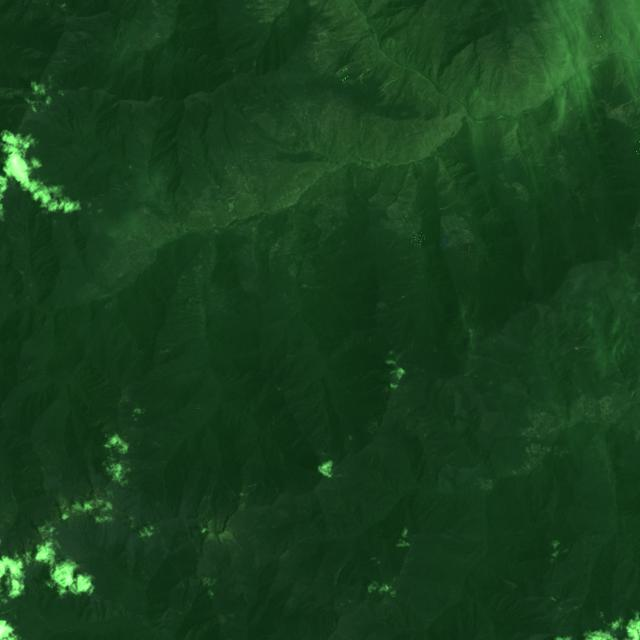landslides: (223, 531, 243, 551), (395, 342, 413, 362), (228, 197, 238, 219), (439, 199, 458, 210), (603, 368, 620, 378)
